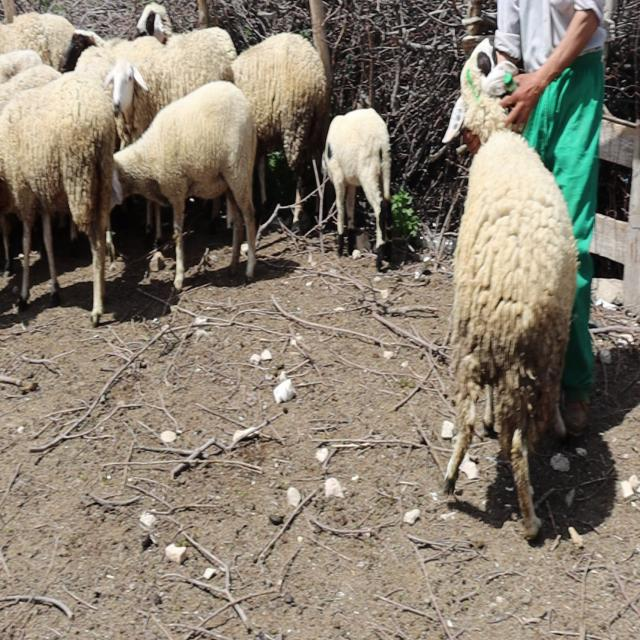Score_3: (442, 39, 577, 538)
